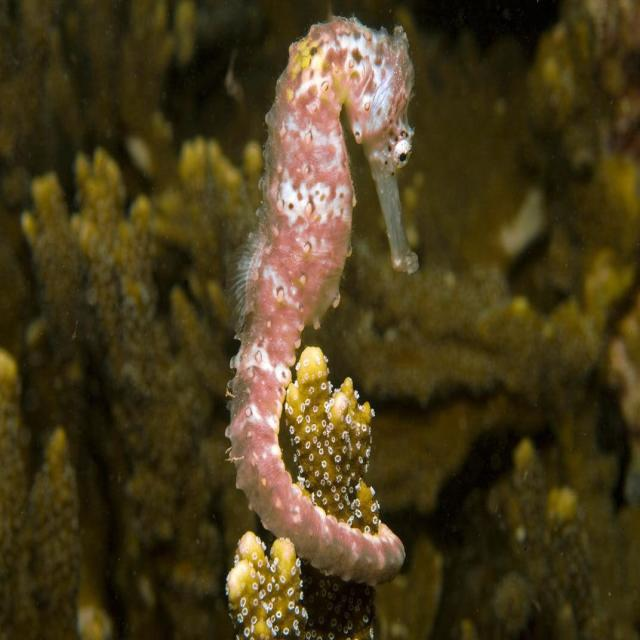seahorse: (226, 17, 418, 580)
